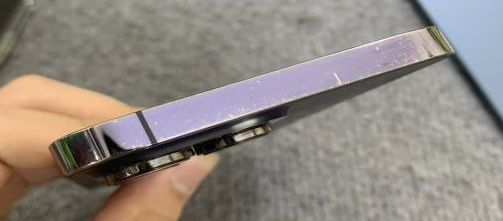scratch: (115, 96, 260, 152), (350, 27, 452, 79), (245, 67, 348, 105)
